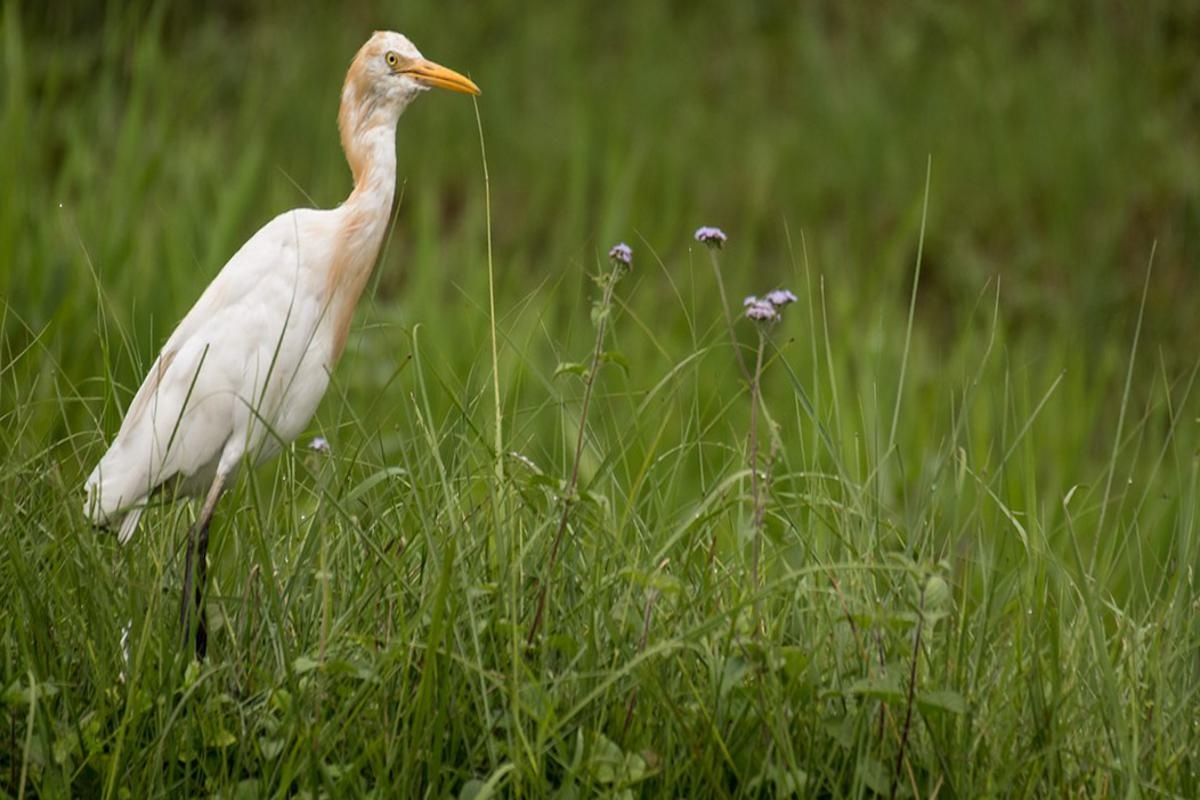egret: (103, 29, 488, 606)
